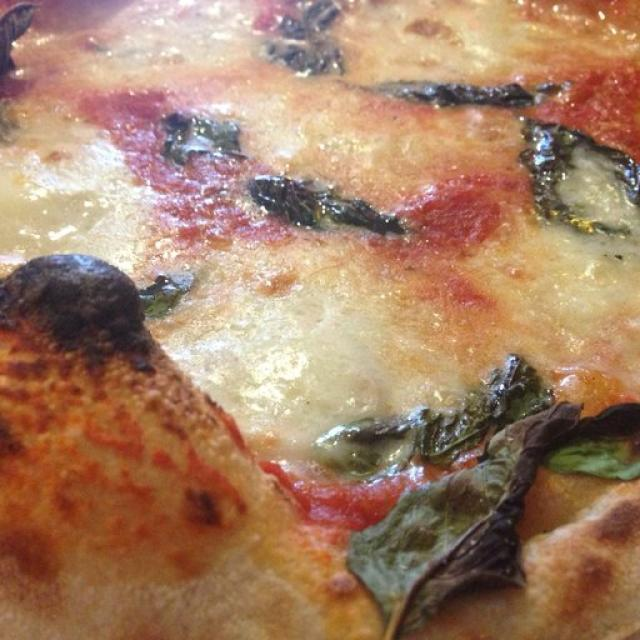Basil: (301, 342, 640, 638), (246, 165, 415, 264), (514, 119, 640, 240), (371, 68, 568, 112), (139, 104, 248, 156)
Cheese: (204, 267, 380, 400), (22, 145, 105, 227), (150, 14, 230, 70)
Pizza: (0, 0, 640, 640)
